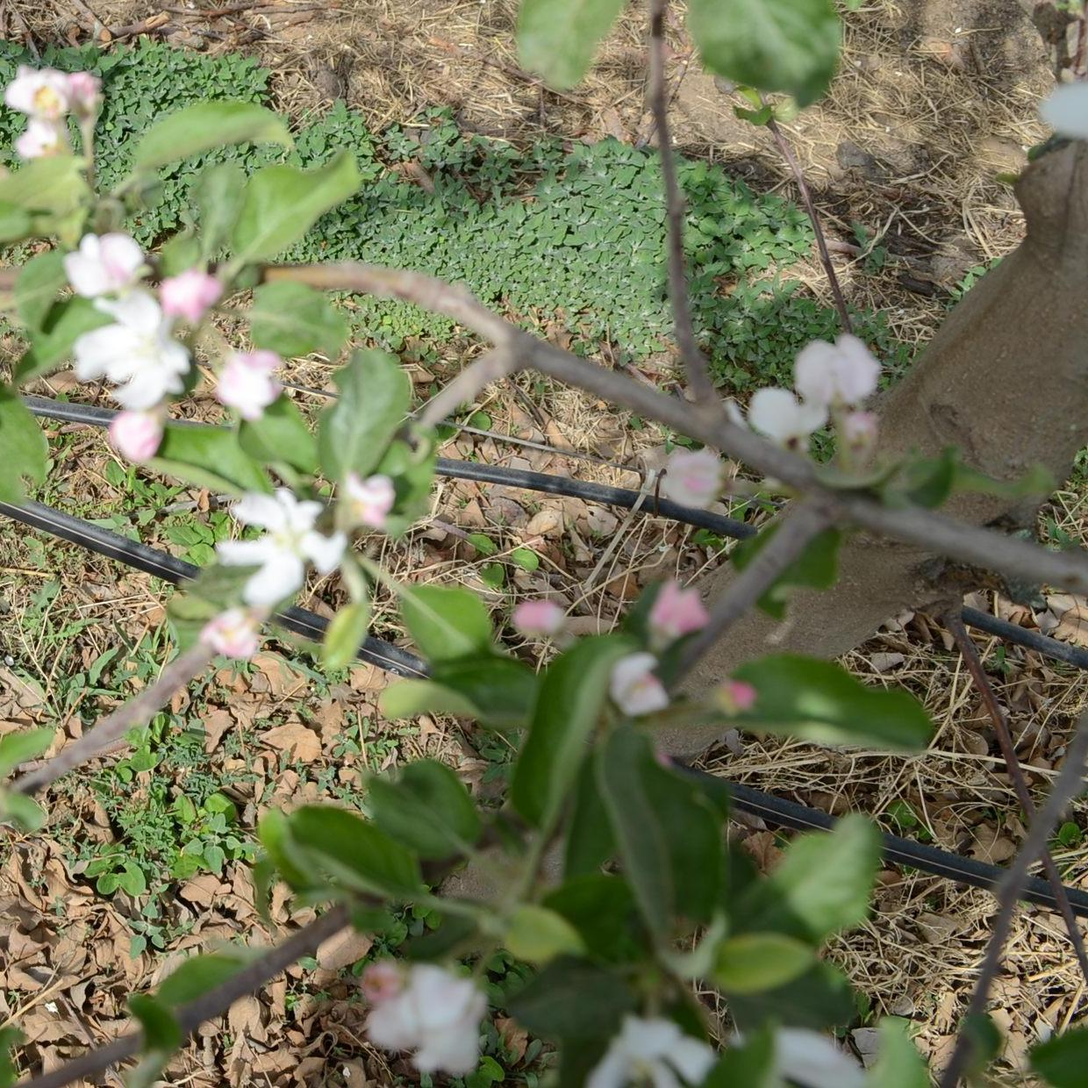apple_flower: (65, 231, 225, 459), (218, 487, 348, 608), (752, 333, 886, 447), (612, 580, 713, 717), (366, 963, 489, 1074), (5, 64, 103, 168), (589, 1017, 720, 1088), (774, 1029, 871, 1088), (218, 350, 285, 419), (342, 472, 398, 527), (514, 599, 595, 636), (726, 690, 755, 712)
